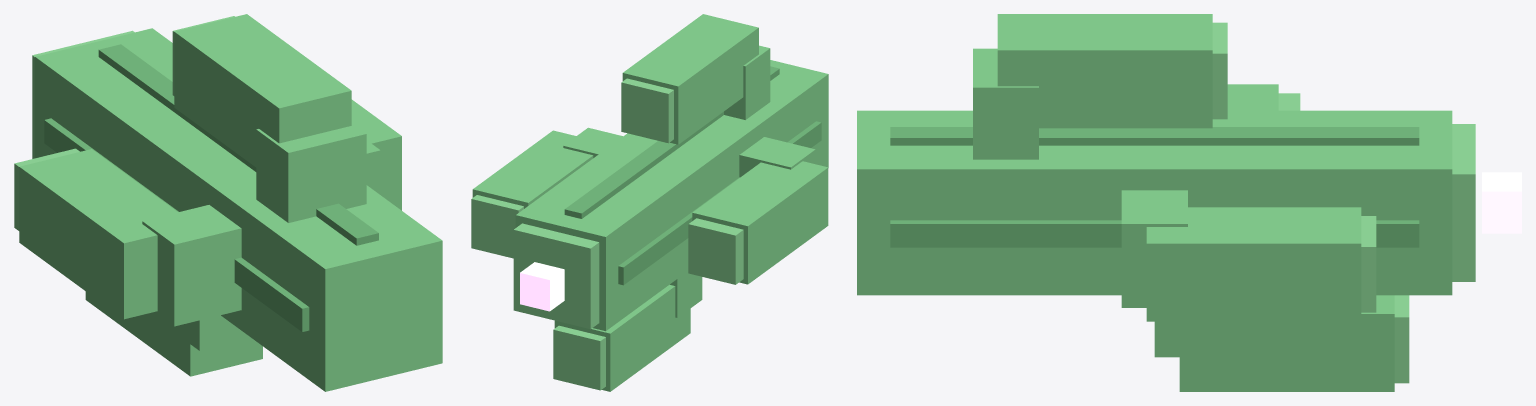
The model's file is cactus.glb.
3 views of the same model, side by side, from view 1: azimuth 30°, elevation 25°; view 2: azimuth 150°, elevation 25°; view 3: azimuth 270°, elevation 25° (orthographic). The views are drawn at different scales.
Parts seen in each view (by area): view 1: Main, Prong_L_Arm, Prong_F_Arm, Prong_L_Joint, Prong_F_Joint, Prong_B_Arm, RibF, RibL, Prong_R_Arm, Prong_B_Joint, Prong_L_Cap, Prong_R_Joint (+1 smaller); view 2: Main, Prong_L_Arm, Prong_F_Arm, Cap, Prong_B_Arm, Prong_R_Arm, Prong_L_Cap, Prong_F_Cap, Prong_B_Cap, RibF, Prong_R_Cap, RibL (+5 smaller); view 3: Main, Prong_R_Arm, Prong_F_Arm, Prong_B_Arm, RibF, RibR, Prong_F_Joint, Prong_R_Joint, Cap, Flower, Prong_B_Joint, Prong_F_Cap (+3 smaller).
Part boxes in pixels (left/top/right/bottom): Main: left=35, top=28, right=442, bottom=391; Prong_L_Arm: left=19, top=149, right=177, bottom=319; Prong_F_Arm: left=174, top=14, right=351, bottom=167; Prong_L_Joint: left=142, top=205, right=241, bottom=326; Prong_F_Joint: left=256, top=123, right=366, bottom=222; Prong_B_Arm: left=85, top=291, right=262, bottom=376; RibF: left=98, top=44, right=378, bottom=245; RibL: left=44, top=118, right=309, bottom=331; Prong_R_Arm: left=351, top=99, right=401, bottom=210; Prong_B_Joint: left=167, top=315, right=251, bottom=350; Prong_L_Cap: left=14, top=148, right=79, bottom=230; Prong_R_Joint: left=366, top=140, right=380, bottom=194; Main: left=515, top=60, right=828, bottom=331; Prong_L_Arm: left=692, top=161, right=828, bottom=284; Prong_F_Arm: left=622, top=14, right=758, bottom=144; Cap: left=513, top=223, right=599, bottom=329; Prong_B_Arm: left=554, top=284, right=690, bottom=391; Prong_R_Arm: left=472, top=130, right=593, bottom=208; Prong_L_Cap: left=688, top=218, right=743, bottom=284; Prong_F_Cap: left=621, top=78, right=673, bottom=143; Prong_B_Cap: left=553, top=325, right=605, bottom=390; RibF: left=564, top=66, right=779, bottom=218; Prong_R_Cap: left=471, top=195, right=523, bottom=258; RibL: left=618, top=121, right=821, bottom=285; Main: left=857, top=110, right=1452, bottom=295; Prong_R_Arm: left=1146, top=207, right=1361, bottom=321; Prong_F_Arm: left=997, top=14, right=1212, bottom=128; Prong_B_Arm: left=1179, top=295, right=1394, bottom=391; RibF: left=890, top=127, right=1419, bottom=145; RibR: left=890, top=220, right=1419, bottom=247; Prong_F_Joint: left=973, top=48, right=1038, bottom=159; Prong_R_Joint: left=1121, top=190, right=1187, bottom=307; Cap: left=1452, top=124, right=1475, bottom=281; Flower: left=1482, top=172, right=1521, bottom=233; Prong_B_Joint: left=1154, top=321, right=1220, bottom=357; Prong_F_Cap: left=1212, top=22, right=1227, bottom=119.
Size of the model in its own units: 1.14 by 1.14 by 2.01.
